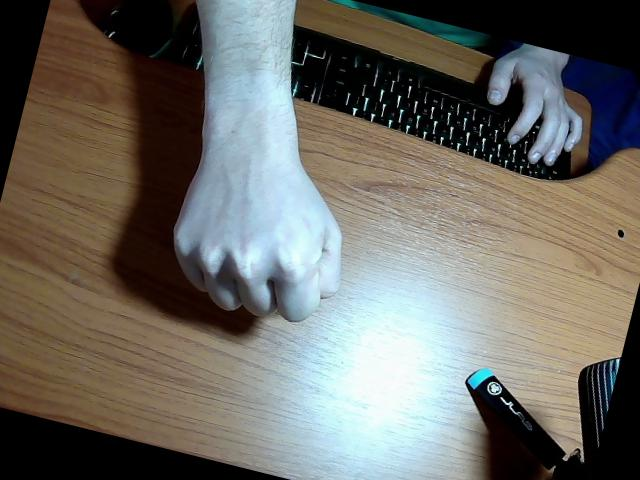rock: (173, 0, 341, 322)
